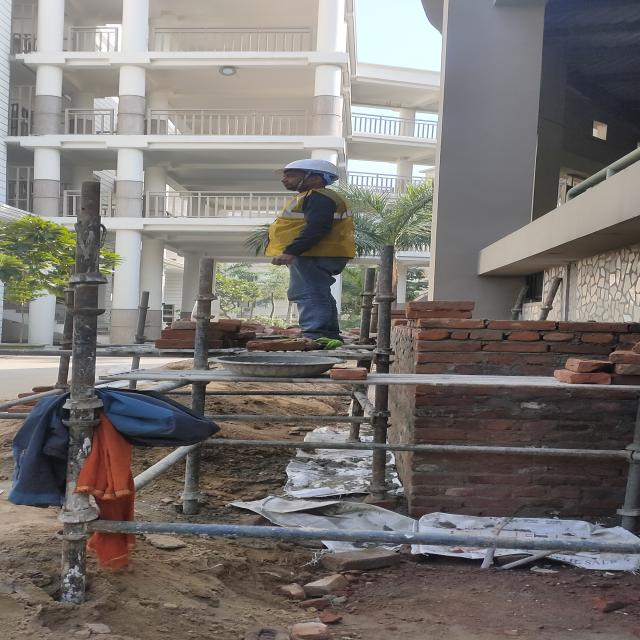safe: (264, 159, 356, 337)
